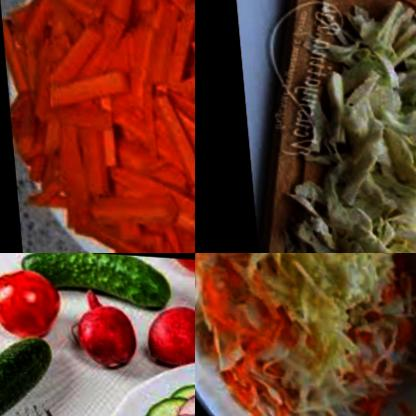cabbage: (240, 0, 416, 253), (240, 253, 393, 318), (278, 307, 361, 416)
carrot: (0, 0, 195, 253), (221, 317, 281, 380), (225, 378, 285, 416), (199, 273, 234, 330), (355, 384, 389, 416)
cucumber: (15, 253, 174, 307), (0, 325, 58, 416), (148, 355, 195, 409), (119, 382, 176, 416)
rediska: (67, 289, 140, 375), (134, 299, 195, 364), (175, 254, 195, 289)
tomato: (0, 263, 61, 340)
